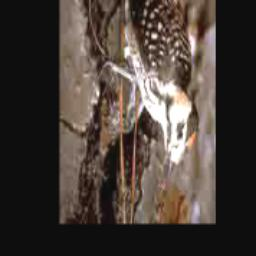Woodpecker: (105, 0, 198, 201)
